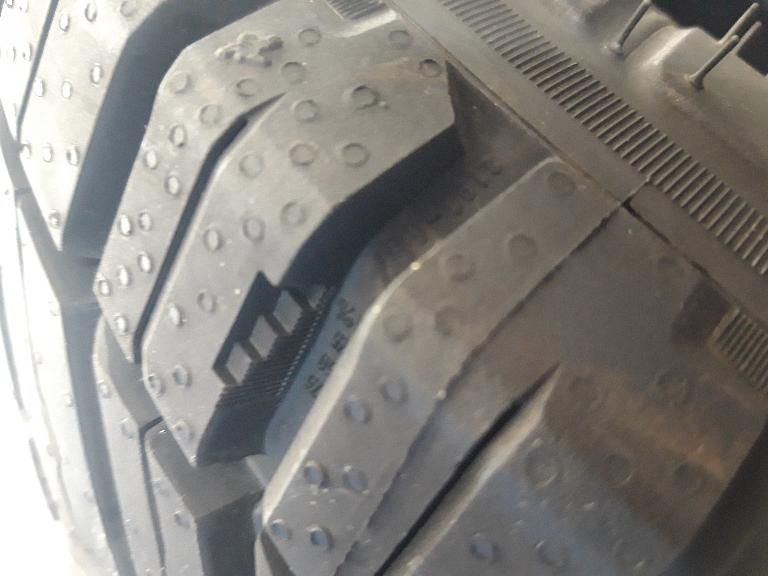temoin:100: (202, 265, 346, 415)
